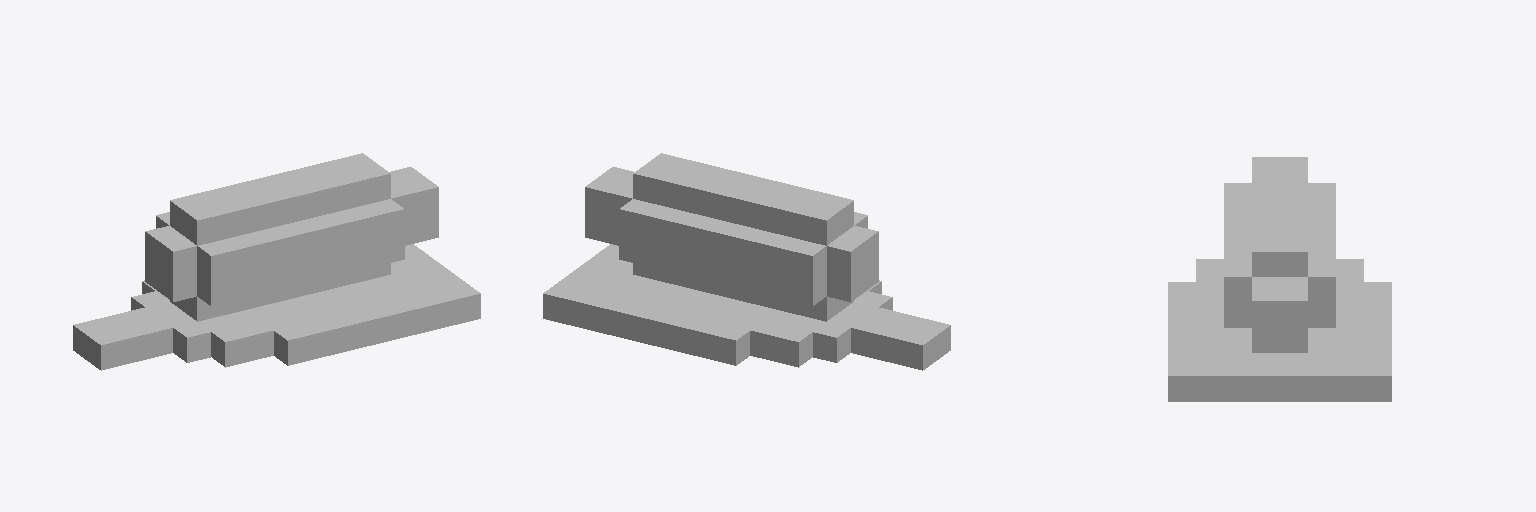
Rendered from hardcook_cutting_board_with_carrot.obj.
3 views of the same model, side by side, from view 1: azimuth 30°, elevation 25°; view 2: azimuth 150°, elevation 25°; view 3: azimuth 270°, elevation 25° (orthographic).
Visible parts, largest first — view 1: node_0_0_0.004, node_0_0_0; view 2: node_0_0_0.004, node_0_0_0; view 3: node_0_0_0, node_0_0_0.004.
Boxes of the visible parts, x1=… form: node_0_0_0.004: x1=145, y1=153, x2=438, y2=321; node_0_0_0: x1=73, y1=244, x2=480, y2=370; node_0_0_0.004: x1=585, y1=153, x2=878, y2=321; node_0_0_0: x1=543, y1=244, x2=950, y2=370; node_0_0_0: x1=1168, y1=259, x2=1391, y2=401; node_0_0_0.004: x1=1224, y1=157, x2=1335, y2=352.
Size of the model in its own units: 0.875 by 0.3125 by 0.5.